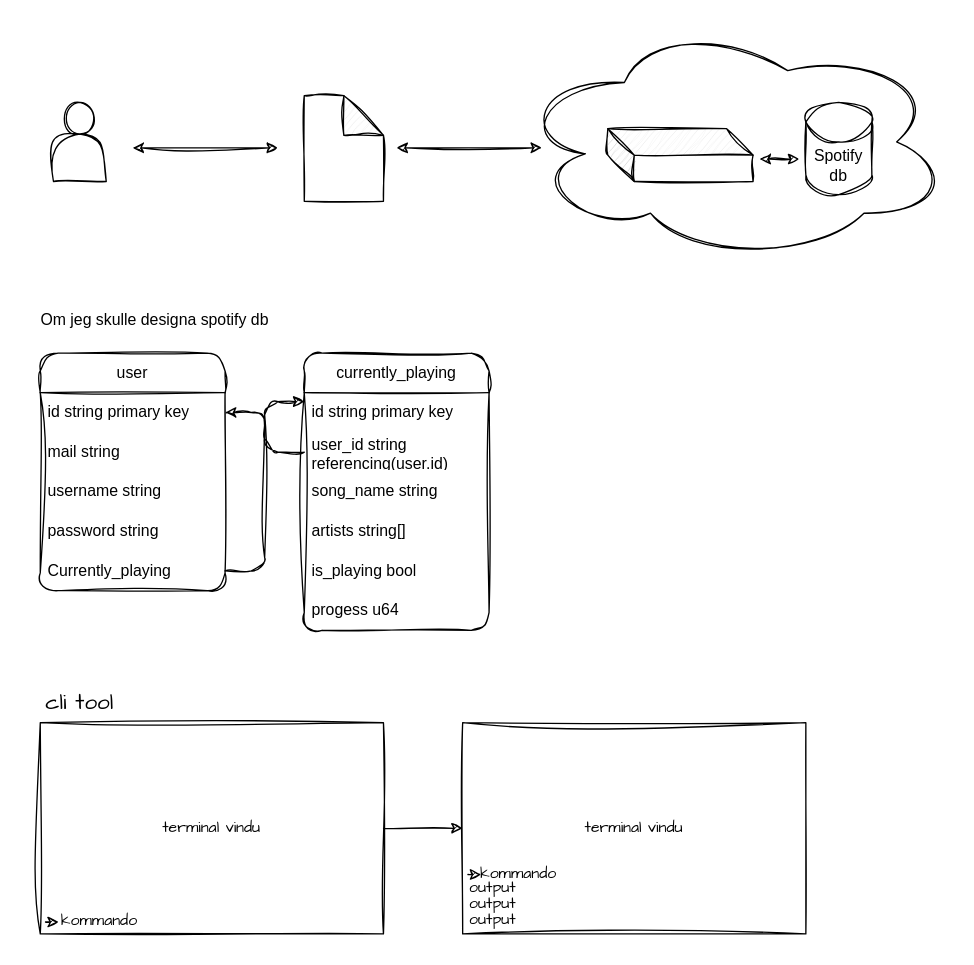
Some shapes in this 974 by 965 pixel diagram are drawn without their labels. Here are the shapes that lost their labels. From the top down, the centre of each, then its label:
At (x=79, y=141): "Bruker".
At (x=343, y=147): "terminal".
At (x=680, y=154): "Spotify server".
